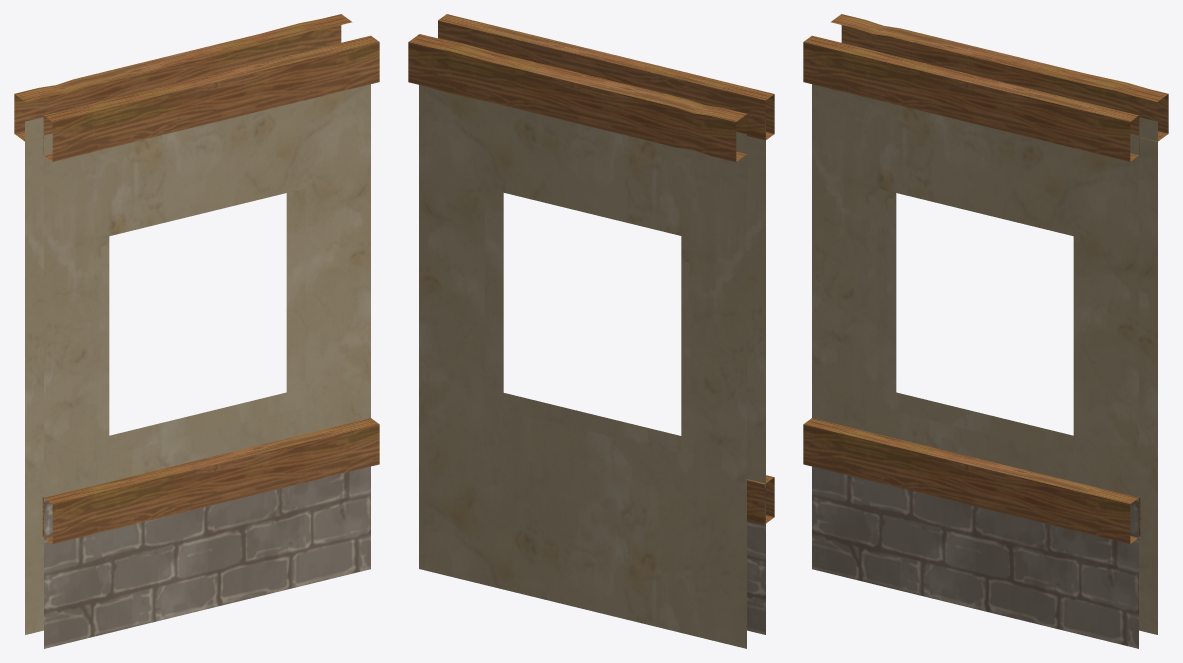
File: Wall_Plaster_Window_Wide_Flat.glb
3 views of the same model, side by side, from view 1: azimuth 30°, elevation 25°; view 2: azimuth 150°, elevation 25°; view 3: azimuth 330°, elevation 25° (orthographic).
Parts seen in each view (by area): view 1: Wall_Plaster_Window_Wide_Flat; view 2: Wall_Plaster_Window_Wide_Flat; view 3: Wall_Plaster_Window_Wide_Flat.
Boxes of the visible parts, box(x1,y1,x2,y2) form: Wall_Plaster_Window_Wide_Flat: box(14, 14, 379, 648); Wall_Plaster_Window_Wide_Flat: box(408, 14, 774, 648); Wall_Plaster_Window_Wide_Flat: box(803, 14, 1168, 648).
Size of the model in its own units: 2 by 3.12 by 0.4065.
Materials: 3 (3 with a texture image).
